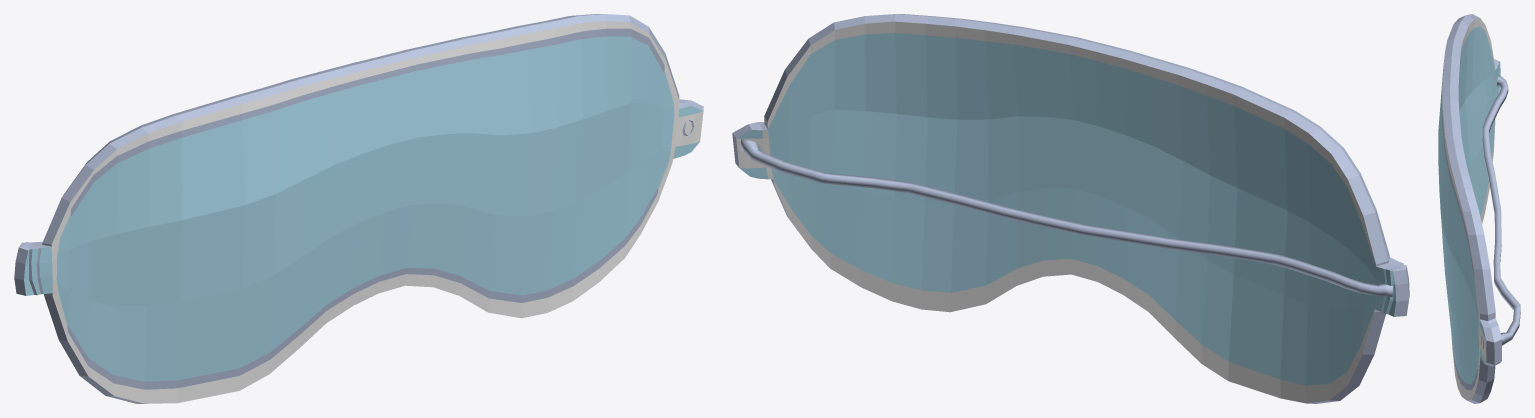
The model's file is Sleep mask.fbx.
3 renders of one model, left to right at view 1: azimuth 30°, elevation 25°; view 2: azimuth 150°, elevation 25°; view 3: azimuth 270°, elevation 25°, orthographic. The views are drawn at different scales.
Parts seen in each view (by area): view 1: SleepMask; view 2: SleepMask; view 3: SleepMask.
Boxes of the visible parts, bbox=[...] form: SleepMask: bbox=[14, 14, 703, 403]; SleepMask: bbox=[732, 14, 1409, 403]; SleepMask: bbox=[1438, 14, 1520, 403].
Bounding box in the file's own units: 15.75 × 6.63 × 2.08.
